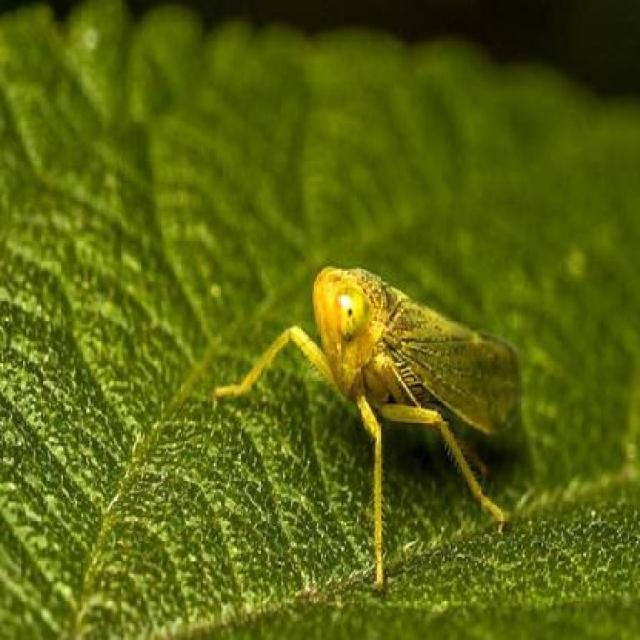green-leafhopper: (216, 261, 524, 577)
